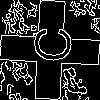C: (25, 25, 72, 64)
